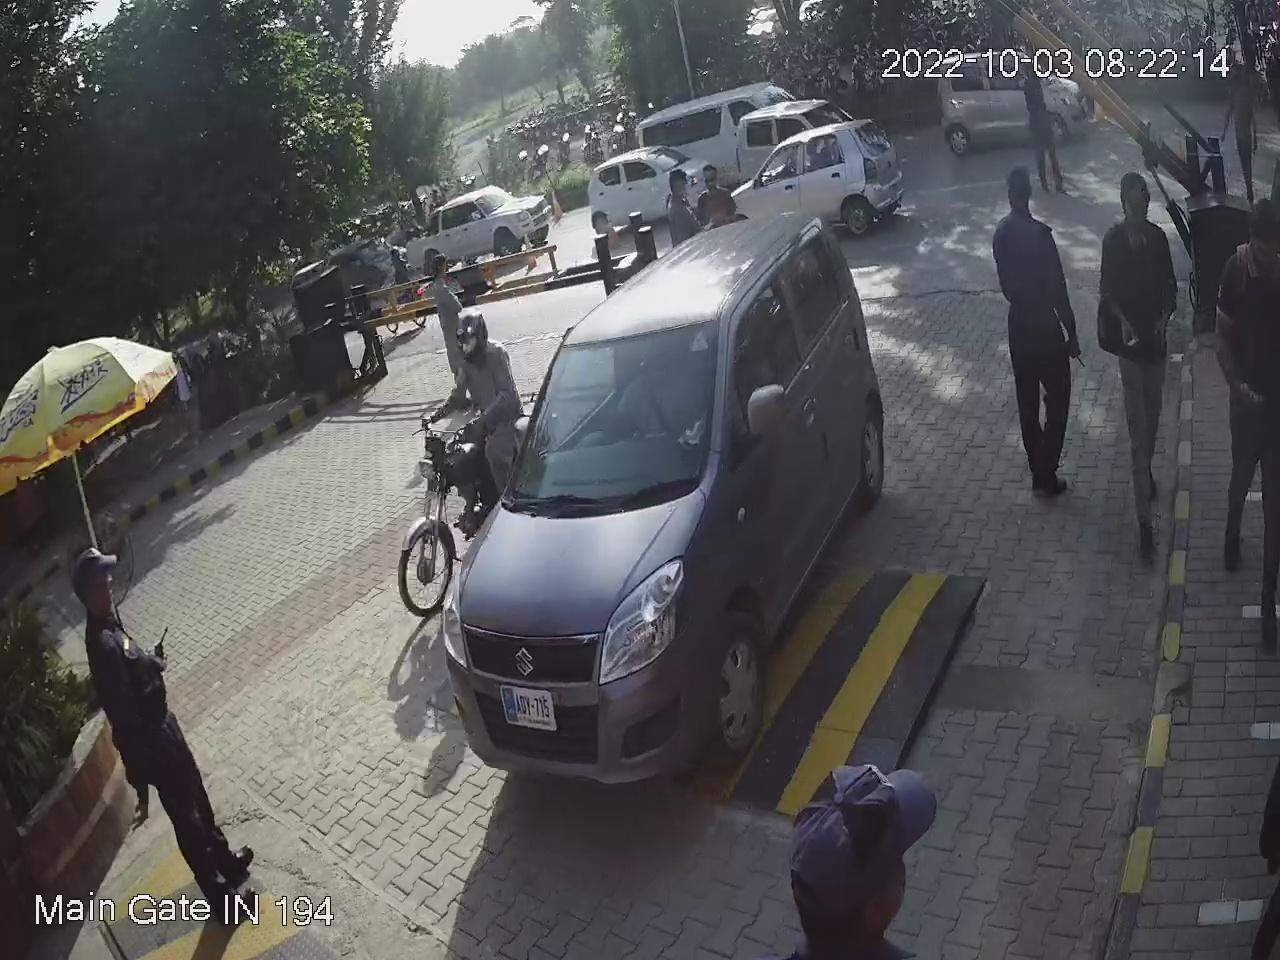windshield: (508, 315, 728, 507)
